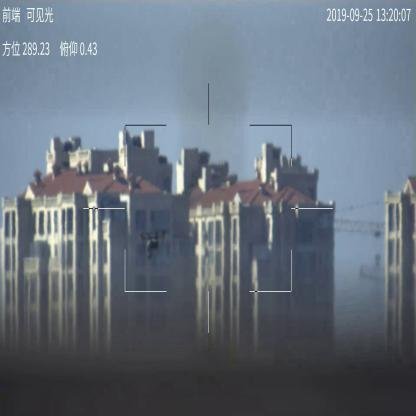uav: (141, 230, 167, 260)
